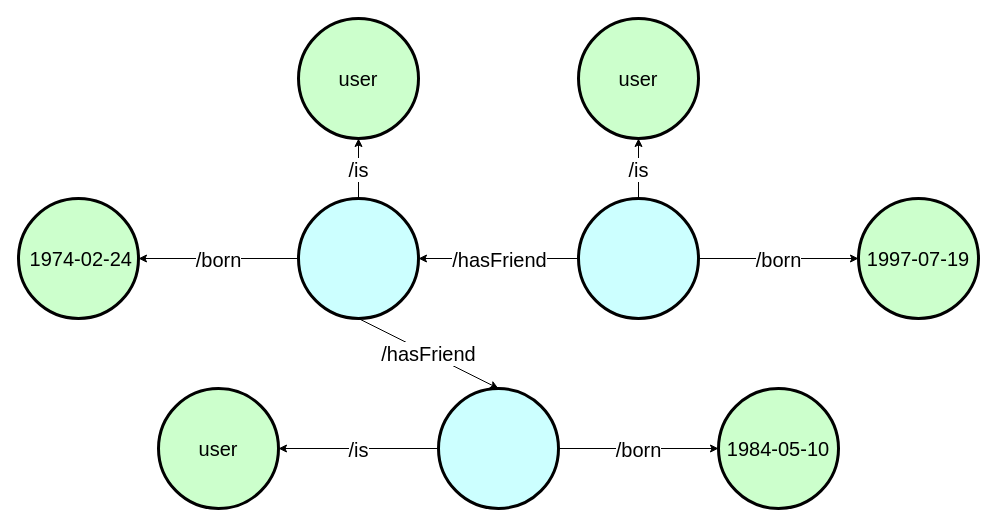
The diagram is 997 pixels wide and 527 high, and some of its shapes have lost their labels. Here are the shapes that lost their labels. From the top down, the box of each, then its label:
(296, 196, 420, 320): /user/alice
(576, 196, 700, 320): /user/bob
(436, 386, 560, 510): /user/charlie
